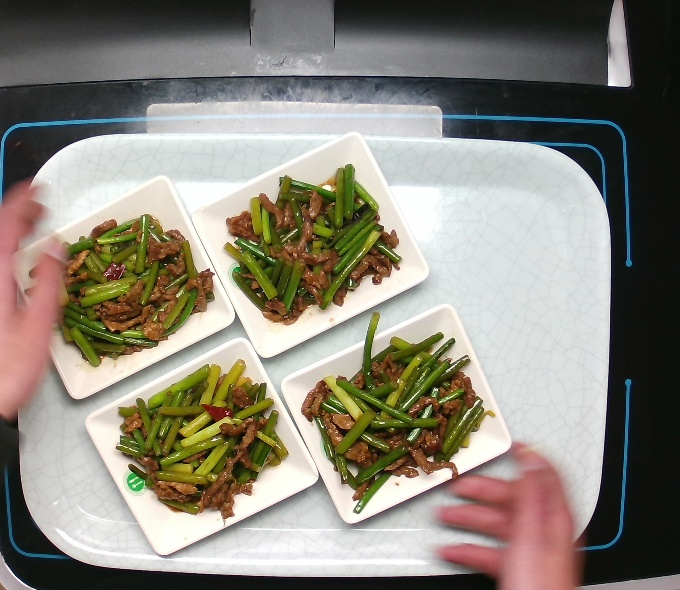wcq-SuanMiaoNiuRou: (297, 310, 501, 518), (218, 157, 407, 329), (22, 208, 217, 372), (110, 354, 292, 524)
